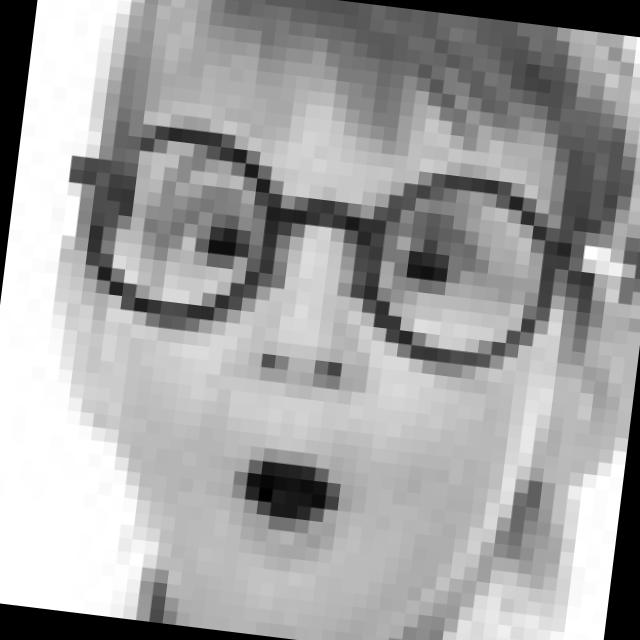surprise: (80, 118, 549, 597)
